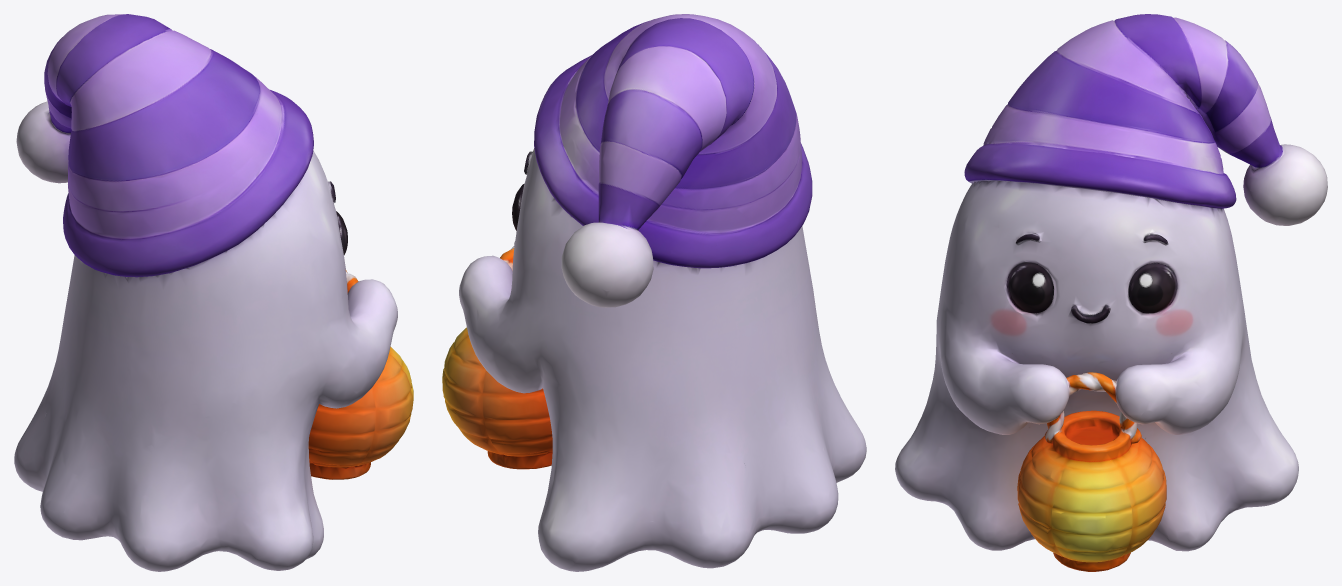
The model's file is MonsterLittleGhost_raw.glb.
3 views of the same model, side by side, from view 1: azimuth 30°, elevation 25°; view 2: azimuth 150°, elevation 25°; view 3: azimuth 270°, elevation 25° (orthographic). The views are drawn at different scales.
Parts seen in each view (by area): view 1: tripo_node_e7bcae1f-b86d-4afd-aa1c-2a16b6abd29c; view 2: tripo_node_e7bcae1f-b86d-4afd-aa1c-2a16b6abd29c; view 3: tripo_node_e7bcae1f-b86d-4afd-aa1c-2a16b6abd29c.
Boxes of the visible parts, x1,y1,x2,y2 form: tripo_node_e7bcae1f-b86d-4afd-aa1c-2a16b6abd29c: (14,14,413,571); tripo_node_e7bcae1f-b86d-4afd-aa1c-2a16b6abd29c: (442,14,866,571); tripo_node_e7bcae1f-b86d-4afd-aa1c-2a16b6abd29c: (895,14,1327,571).
Size of the model in its own units: 0.7278 by 1 by 0.7822.
1 material, 1 textured.
